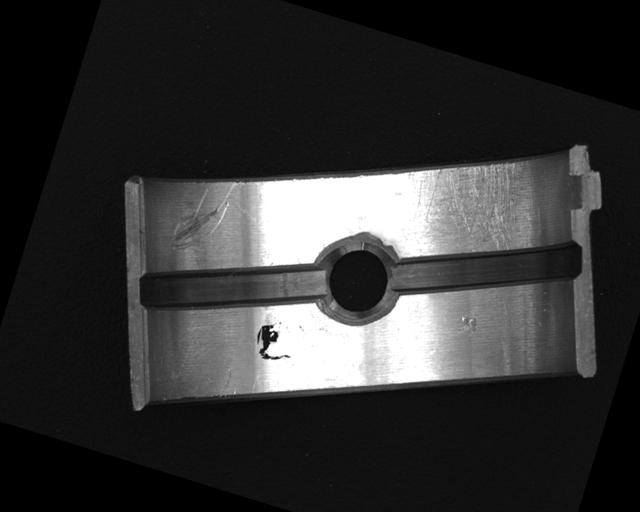blot: (249, 316, 300, 367)
bruise: (455, 313, 482, 338)
gap: (380, 190, 588, 343), (130, 219, 327, 358)
hole: (307, 233, 409, 331)
nick: (166, 167, 242, 265)
scratch: (392, 134, 561, 266)
